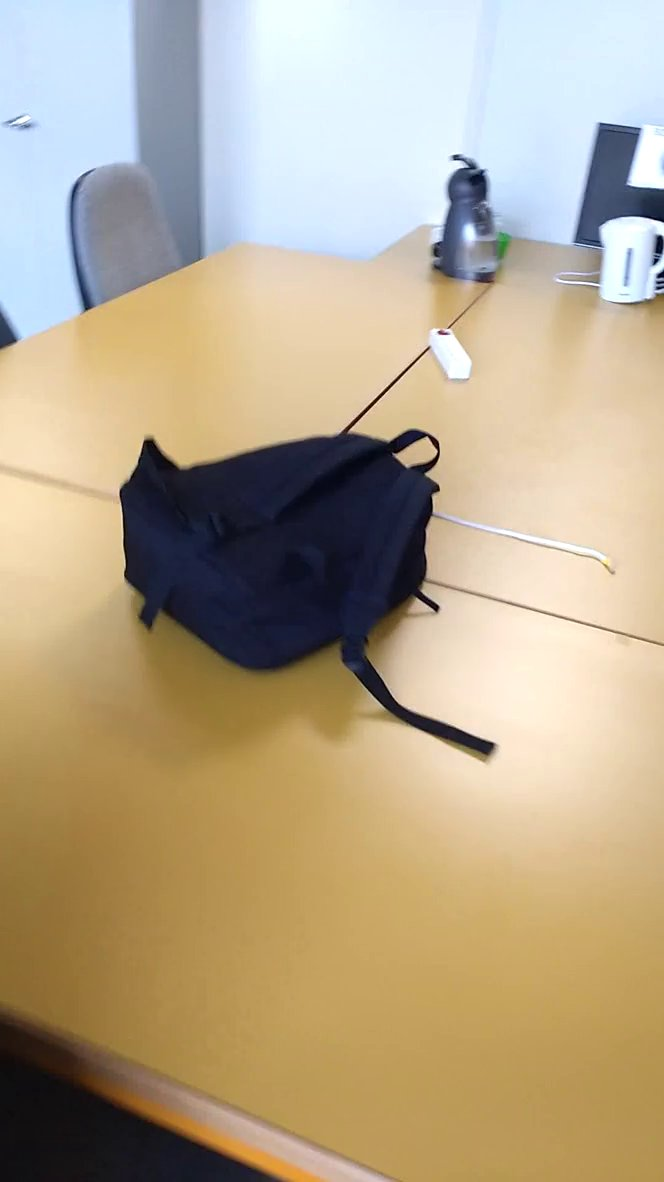bag: (106, 413, 507, 773)
chair: (62, 153, 202, 316)
